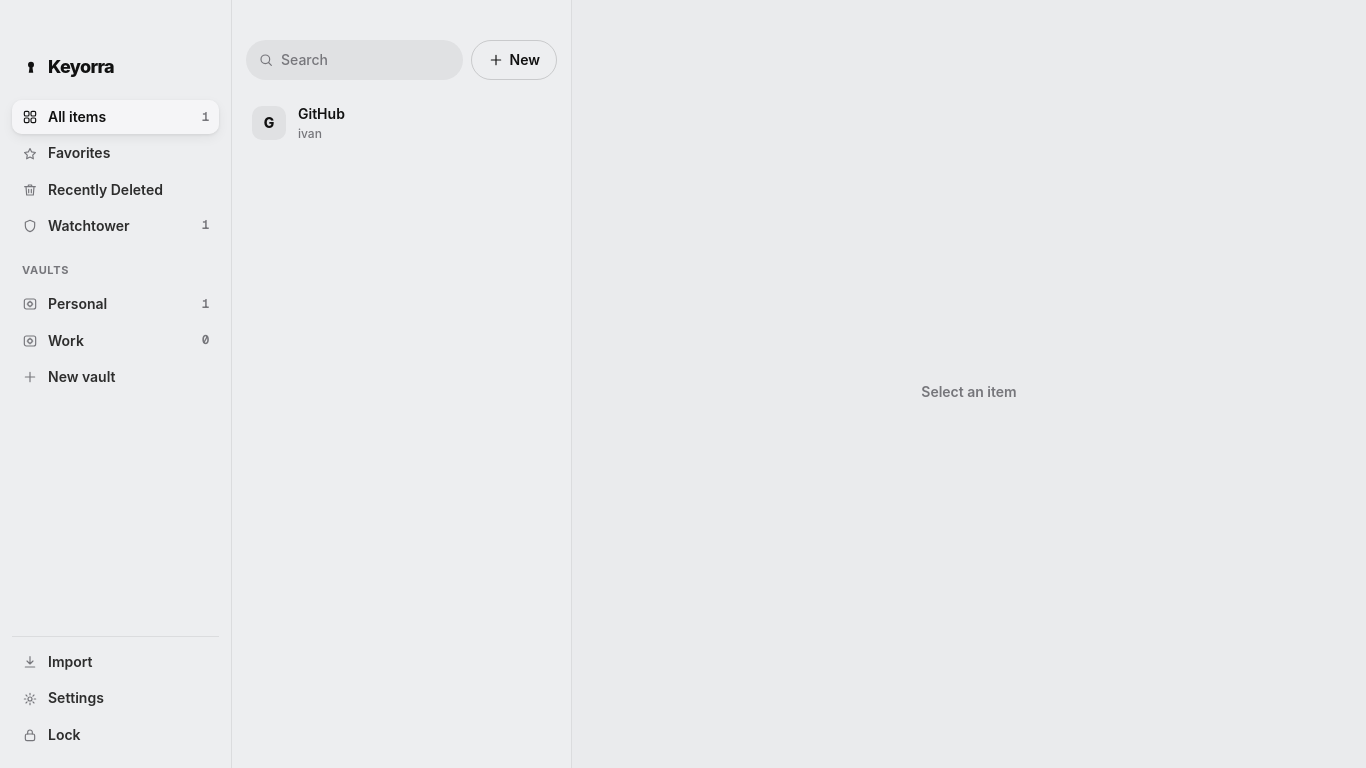
it: settings open from the sidebar
Click the button "Settings": click(116, 699) [12,681,219,716]
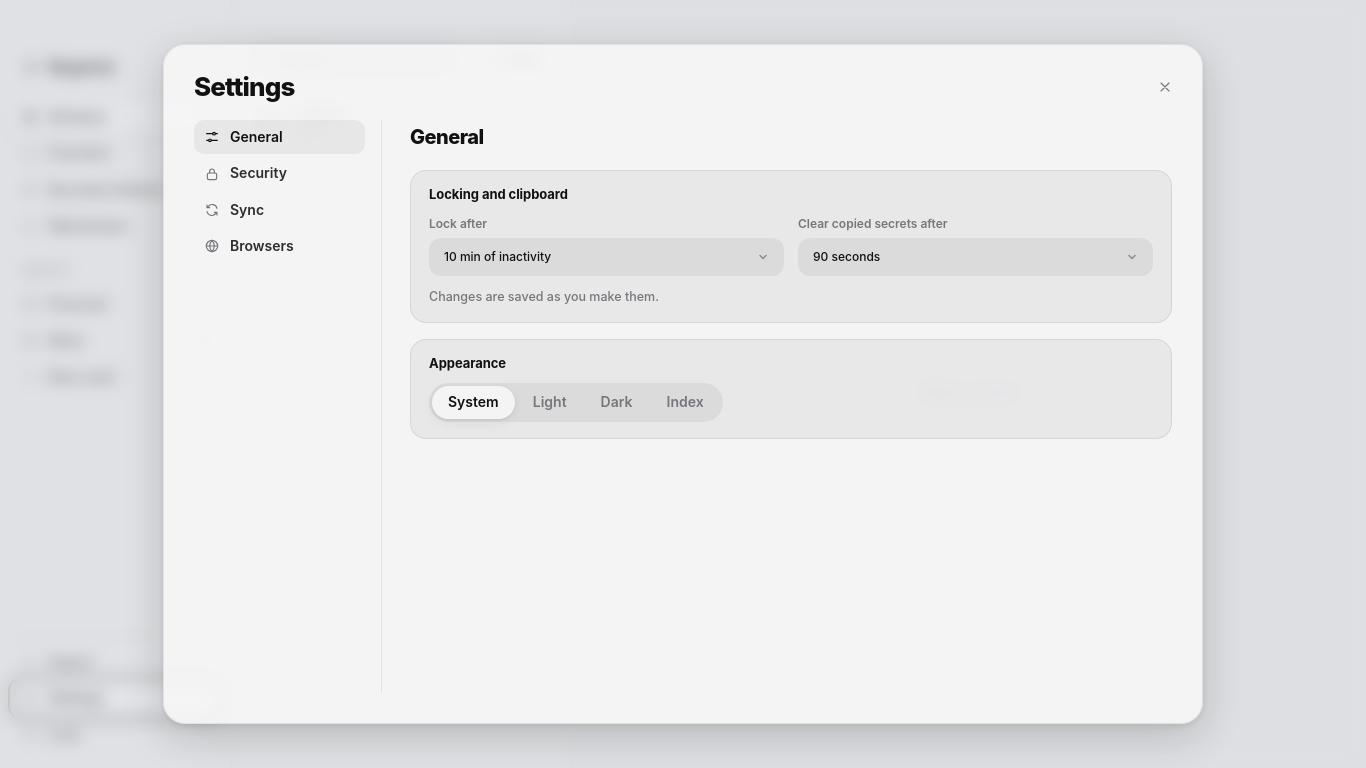
Now the dialog "Settings" is shown
